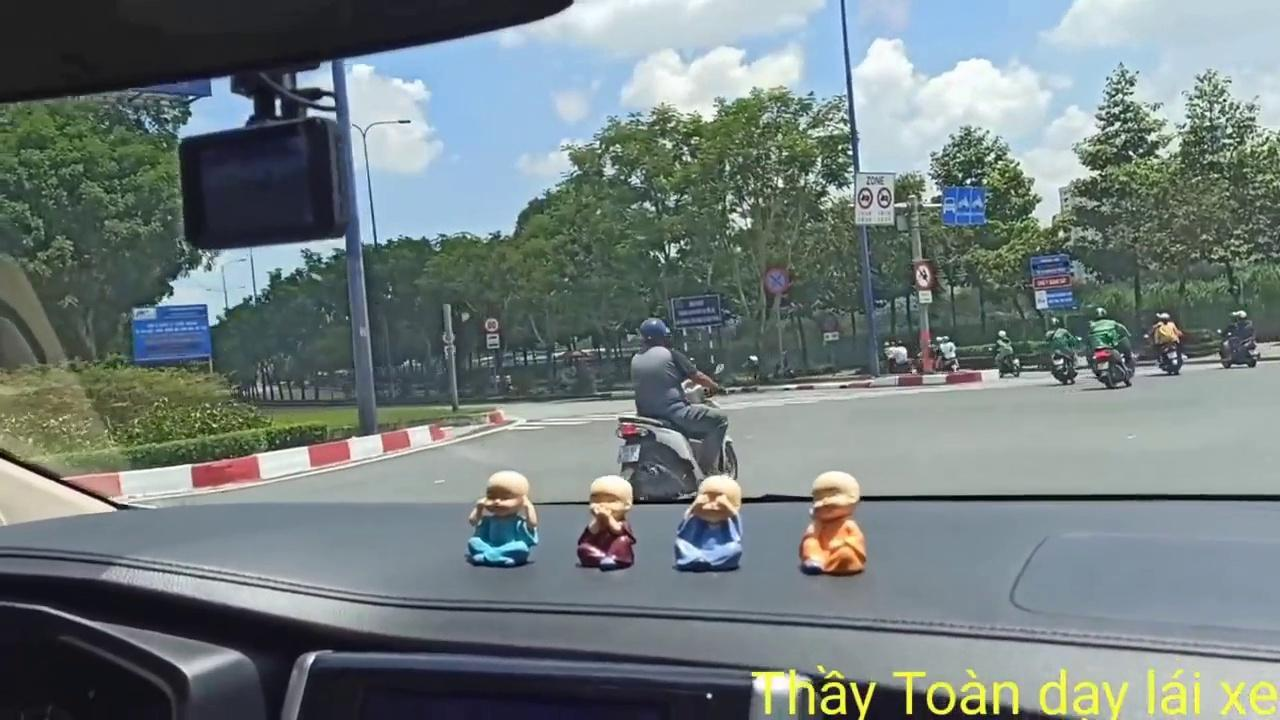Biển phụ: (485, 331, 501, 352)
Cấm cac phương tiện hoạt động trong khung giờ cố định: (852, 169, 897, 229)
Cấm dừng - Cấm đỗ: (763, 265, 789, 296)
Cấm xe máy: (912, 258, 936, 290)
Khác: (129, 300, 213, 362), (1029, 252, 1080, 312)
Làn đường cho từng xe: (940, 183, 989, 227)
